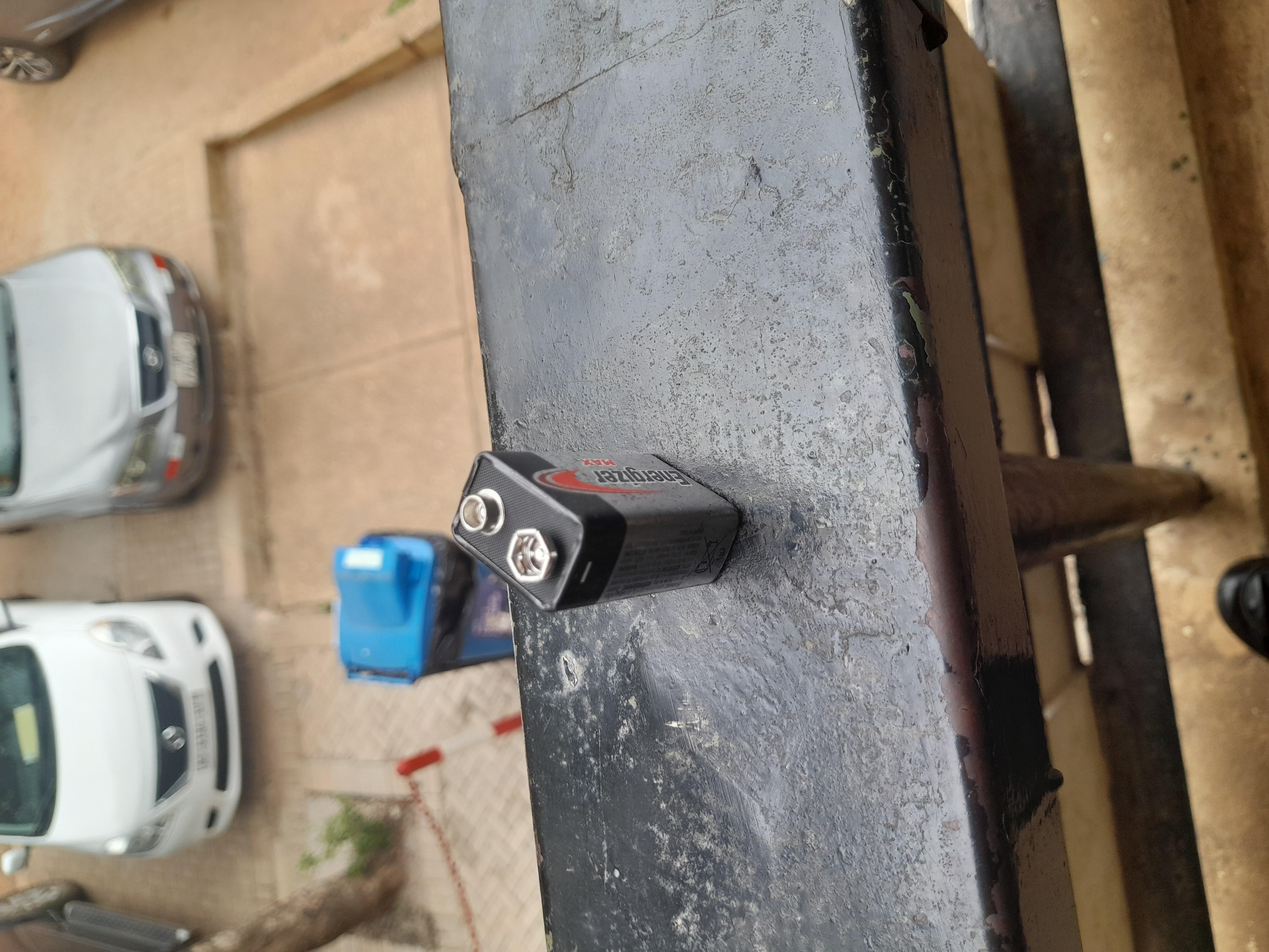9V: (508, 302, 823, 566)
